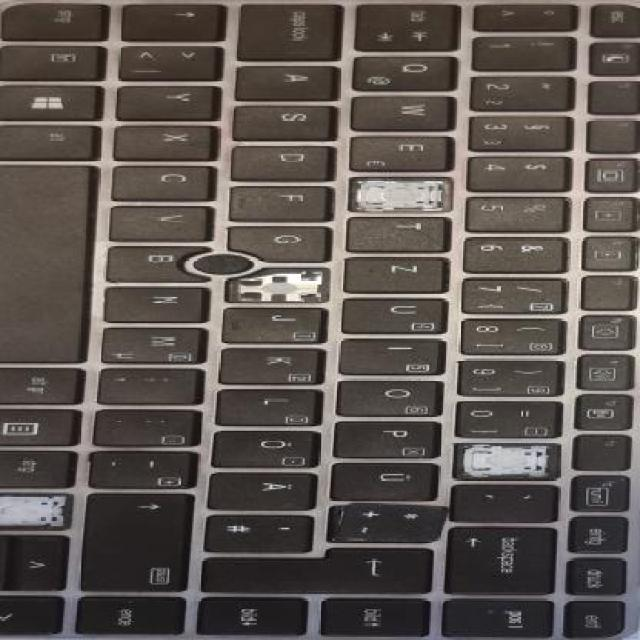Keyboard problems: (351, 178, 449, 211), (463, 445, 546, 477), (238, 274, 320, 302)
